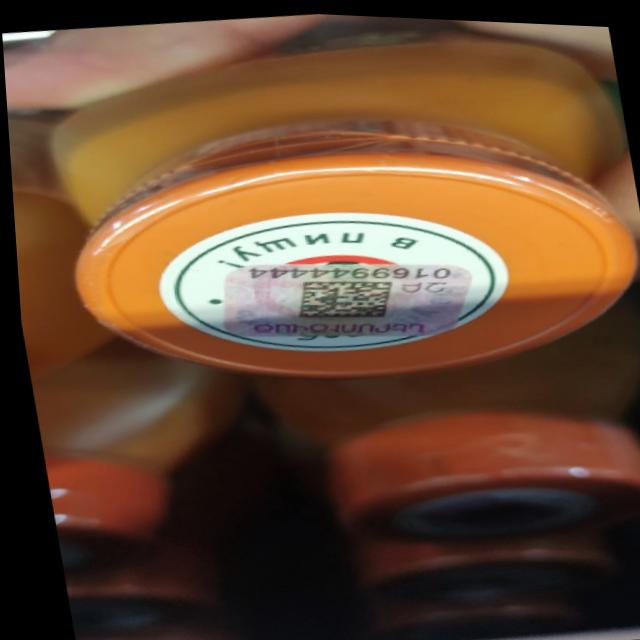datamatrix: (286, 268, 397, 325)
